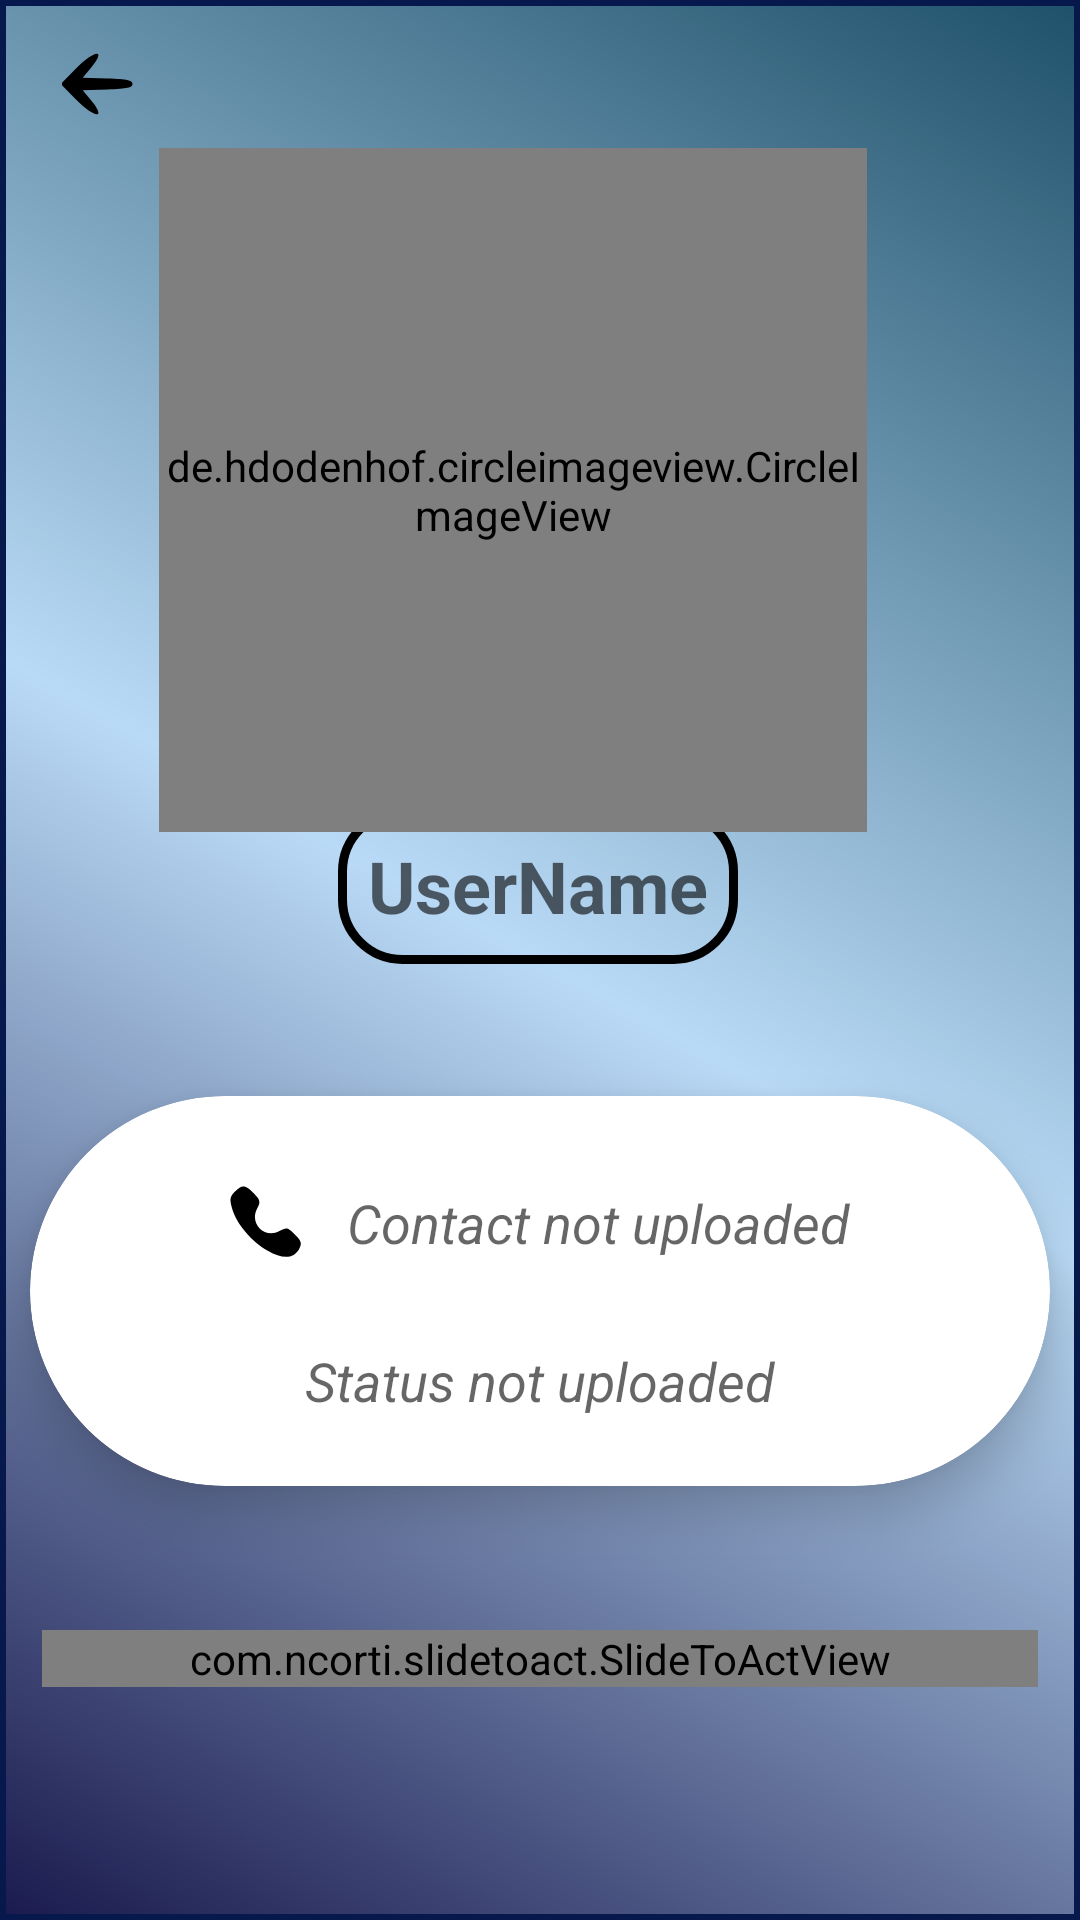

Screen size 1080px x 1920px. Icon name, then its center in pixels as [x,y]:
arrow left: [97,84]
